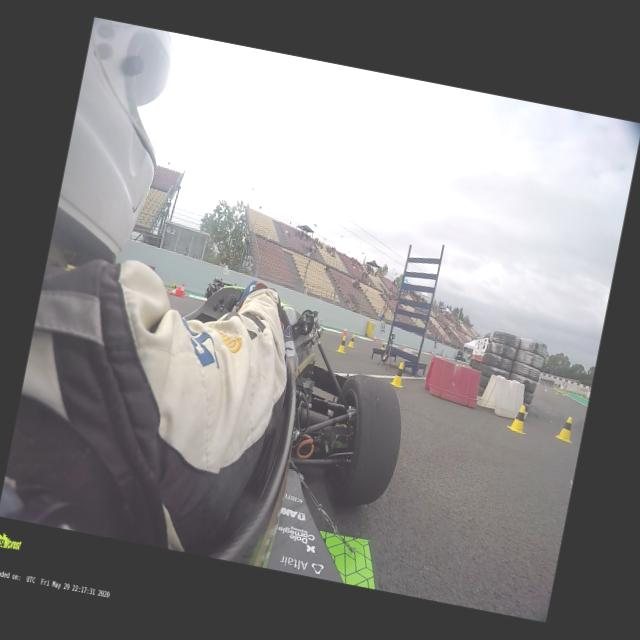orange_cone: (169, 286, 182, 298), (178, 284, 188, 297), (372, 335, 378, 343), (342, 327, 347, 336), (402, 343, 406, 352)
yellow_cone: (554, 414, 577, 445), (506, 404, 529, 434), (388, 360, 408, 391), (335, 334, 348, 354), (348, 334, 356, 348), (170, 281, 178, 289), (454, 361, 460, 368), (382, 342, 386, 349), (462, 362, 466, 369)
